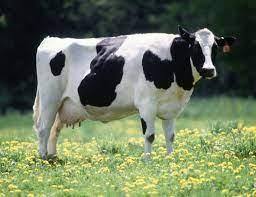cow: (34, 24, 237, 162)
